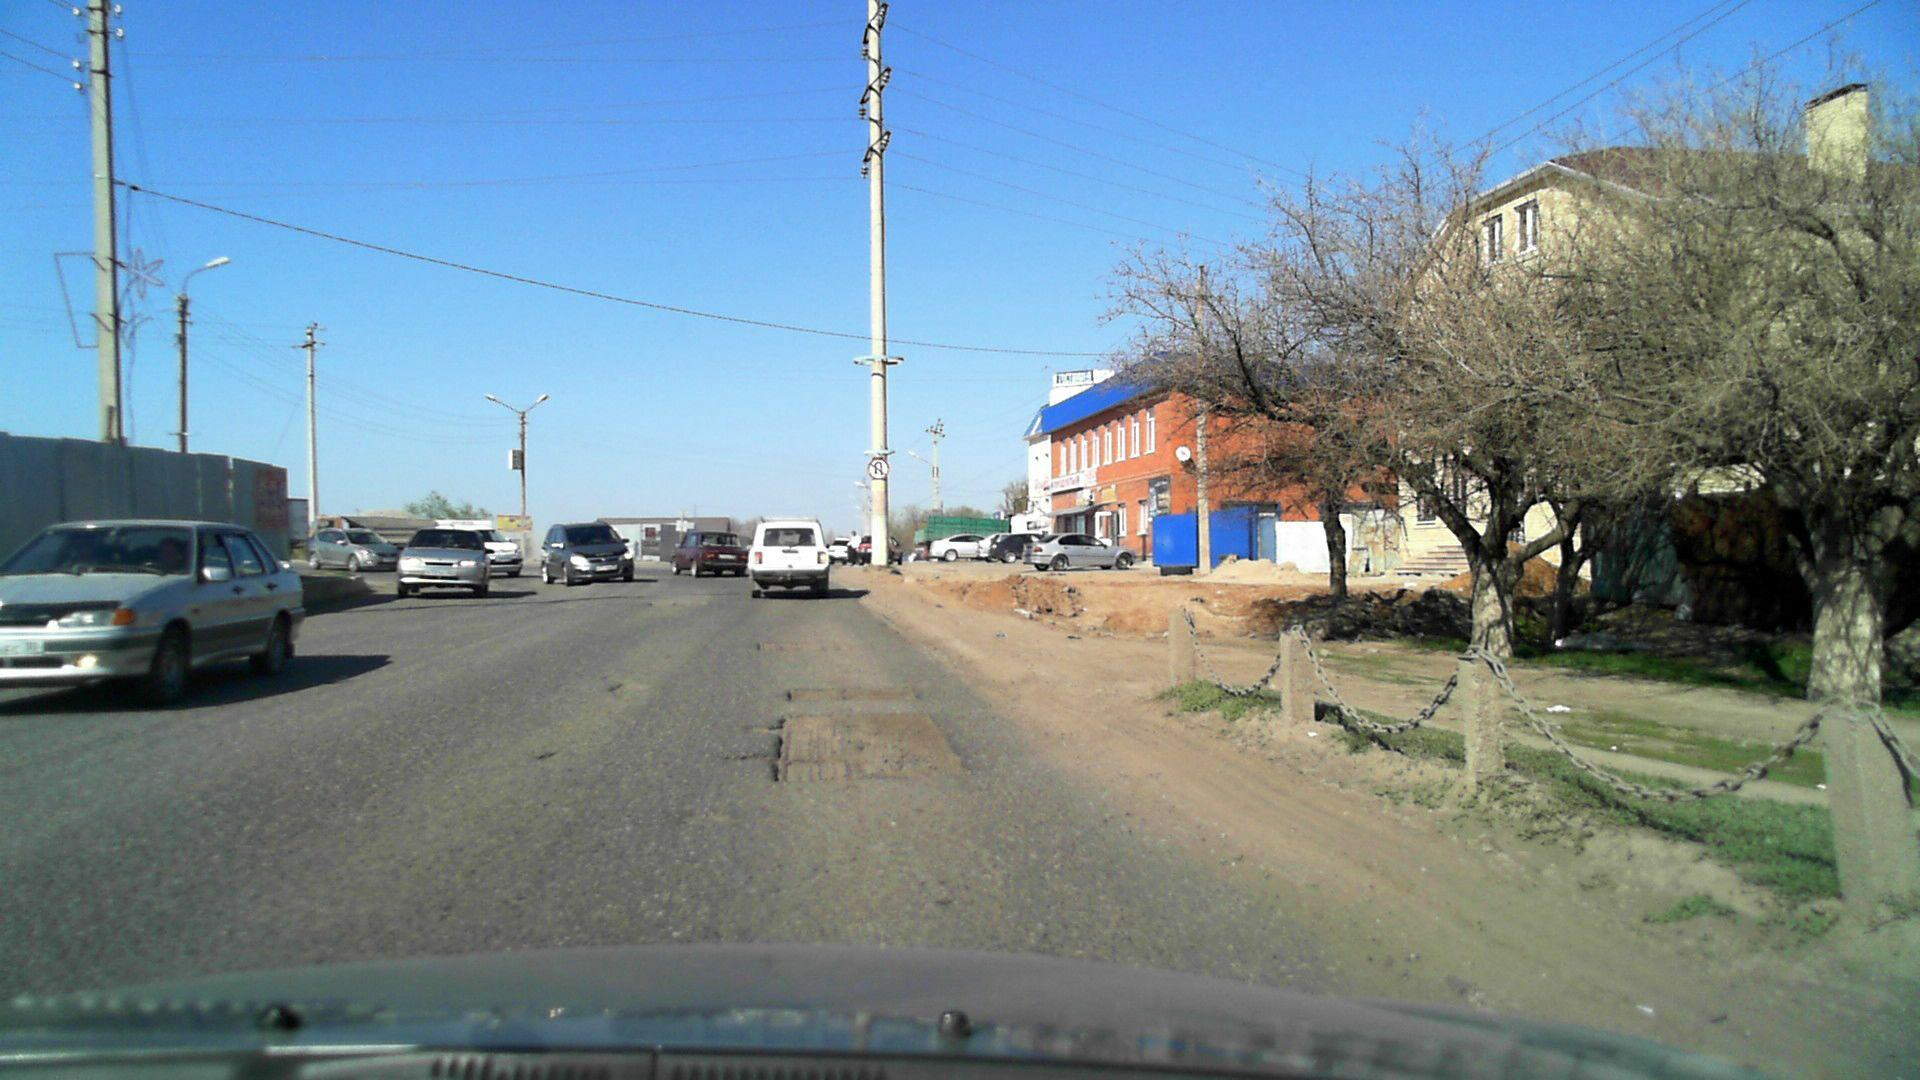3_19: (868, 458, 891, 480)
